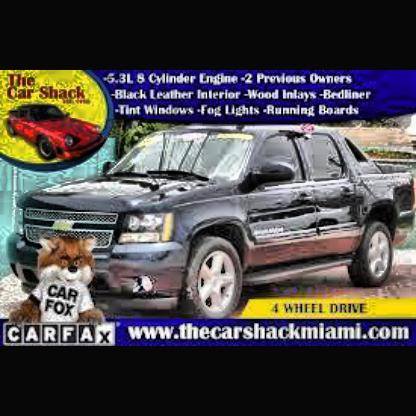Chevrolet Avalanche Crew Cab 2012: (8, 123, 402, 325)
